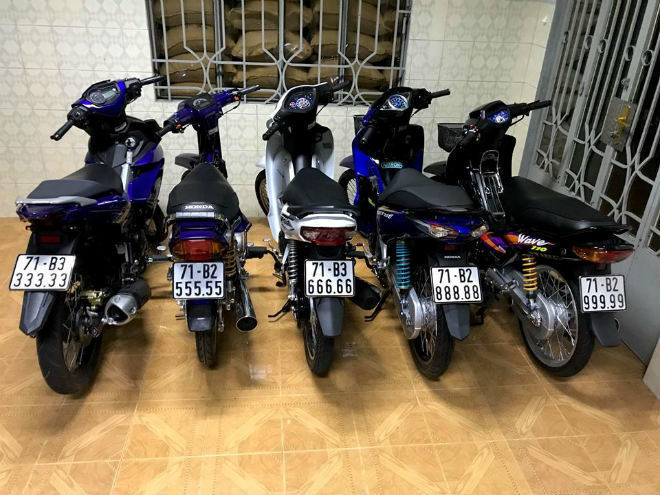number_plate: (166, 257, 233, 300), (428, 263, 487, 302), (301, 258, 360, 296), (575, 274, 631, 313), (11, 253, 73, 288)
